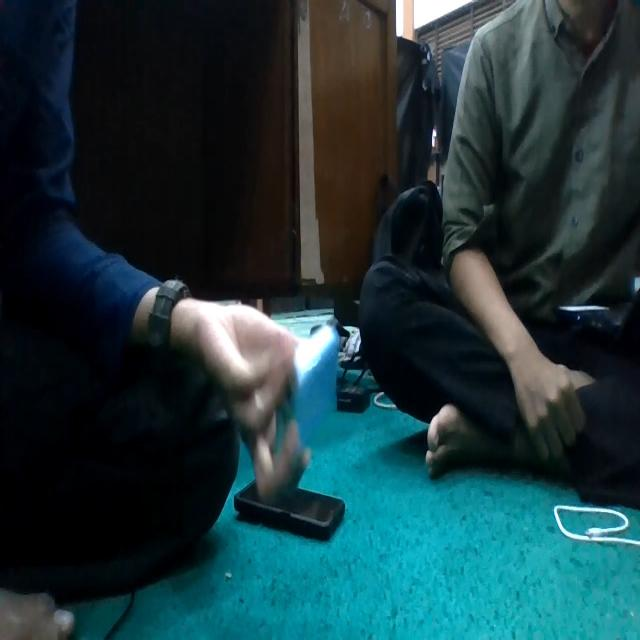Powerbank: (291, 324, 340, 441)
